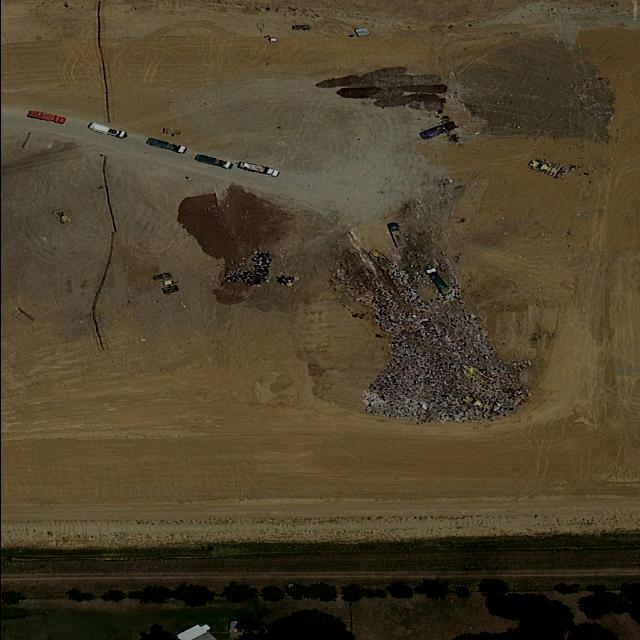dump_site: (353, 277, 533, 419)
